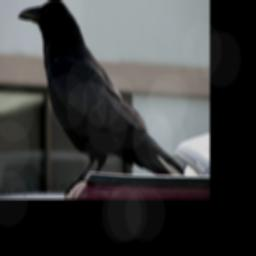Crow: (17, 0, 186, 196)
